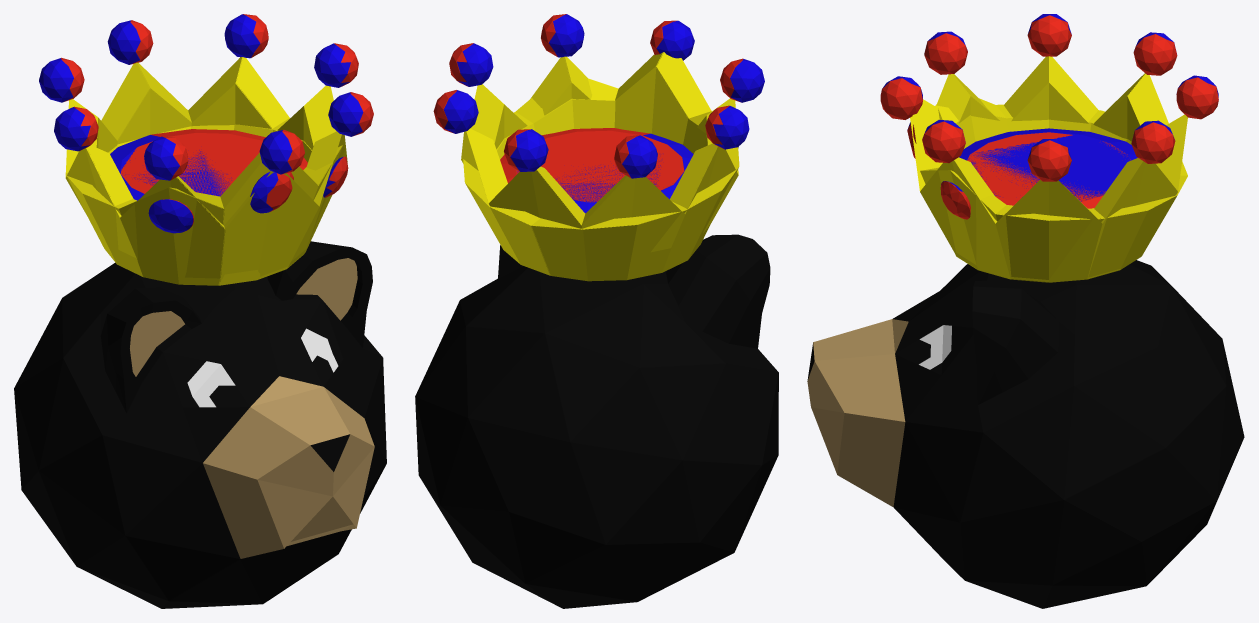
Rendered from Bear.glb.
3 renders of one model, left to right at view 1: azimuth 30°, elevation 25°; view 2: azimuth 150°, elevation 25°; view 3: azimuth 270°, elevation 25°, orthographic.
Visible parts, largest first — view 1: Black_Bear, Blue_Crown, Red_Crown, Blue_Tiara, Red_Tiara; view 2: Black_Bear, Blue_Crown, Blue_Tiara, Red_Crown, Red_Tiara; view 3: Black_Bear, Red_Crown, Red_Tiara, Blue_Crown, Blue_Tiara.
Boxes of the visible parts, box(x1,y1,x2,y2) form: Black_Bear: box(14, 241, 386, 608); Blue_Crown: box(39, 14, 363, 281); Red_Crown: box(61, 14, 373, 282); Blue_Tiara: box(65, 119, 342, 285); Red_Tiara: box(66, 118, 348, 284); Black_Bear: box(415, 234, 778, 608); Blue_Crown: box(443, 14, 764, 252); Blue_Tiara: box(464, 52, 739, 281); Red_Crown: box(433, 14, 743, 228); Red_Tiara: box(463, 52, 738, 275); Black_Bear: box(807, 260, 1244, 608); Red_Crown: box(880, 15, 1218, 281); Red_Tiara: box(907, 99, 1187, 282); Blue_Crown: box(882, 14, 1218, 222); Blue_Tiara: box(907, 98, 1187, 220).
Size of the model in its own units: 9.08 by 13.57 by 10.59.
